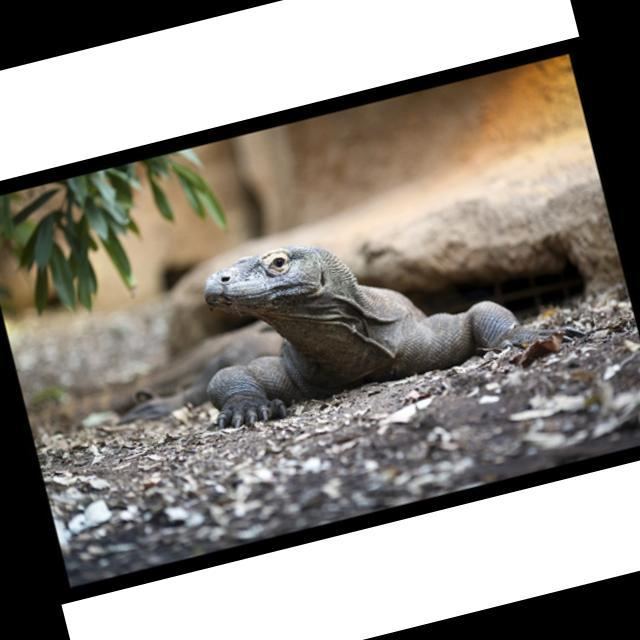KomodoDragon: (85, 179, 588, 456)
